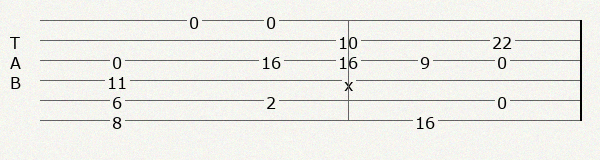0: (112, 52, 126, 68), (189, 12, 203, 28), (266, 12, 280, 28), (497, 92, 511, 108), (497, 52, 511, 68)
10: (338, 32, 362, 48)
11: (107, 72, 131, 88)
16: (261, 52, 285, 68), (338, 52, 362, 68), (415, 112, 439, 128)
2: (266, 92, 280, 108)
22: (492, 32, 516, 48)
6: (112, 92, 126, 108)
8: (112, 112, 126, 128)
9: (420, 52, 434, 68)
x: (344, 74, 357, 87)
